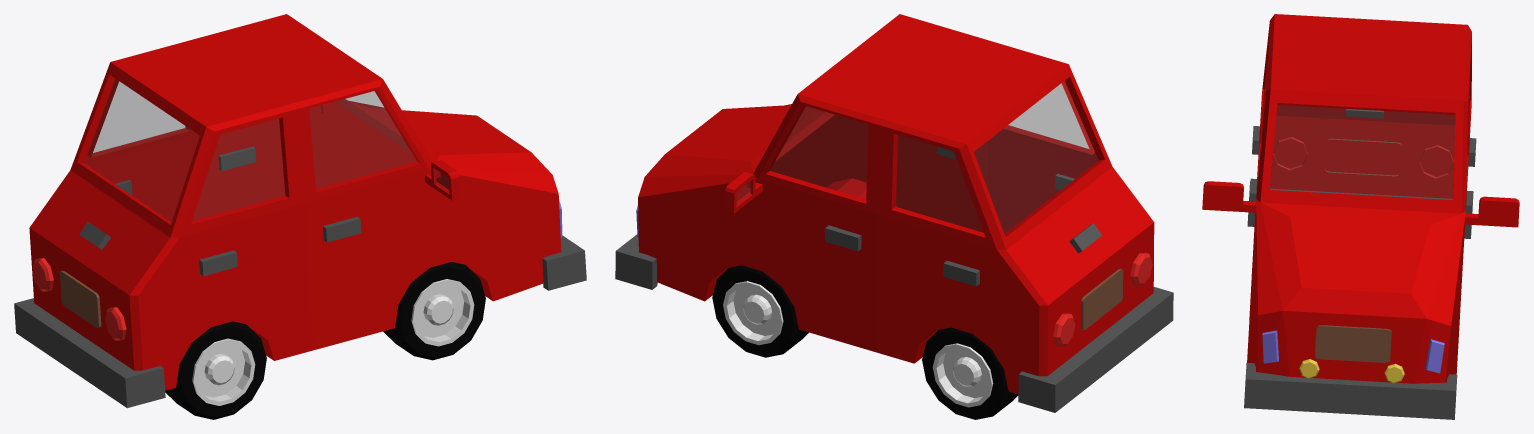
Rendered from straight.glb.
The picture shows the model from 3 angles, left to right: view 1: azimuth 30°, elevation 25°; view 2: azimuth 150°, elevation 25°; view 3: azimuth 270°, elevation 25°; orthographic projection. The views are drawn at different scales.
Visible parts, largest first — view 1: red car; view 2: red car; view 3: red car.
Boxes of the visible parts, left/top/right/bottom form: red car: left=14, top=14, right=586, bottom=419; red car: left=615, top=14, right=1173, bottom=419; red car: left=1202, top=14, right=1519, bottom=419.
Bounding box in the file's own units: 5.4 × 3.39 × 3.33.
